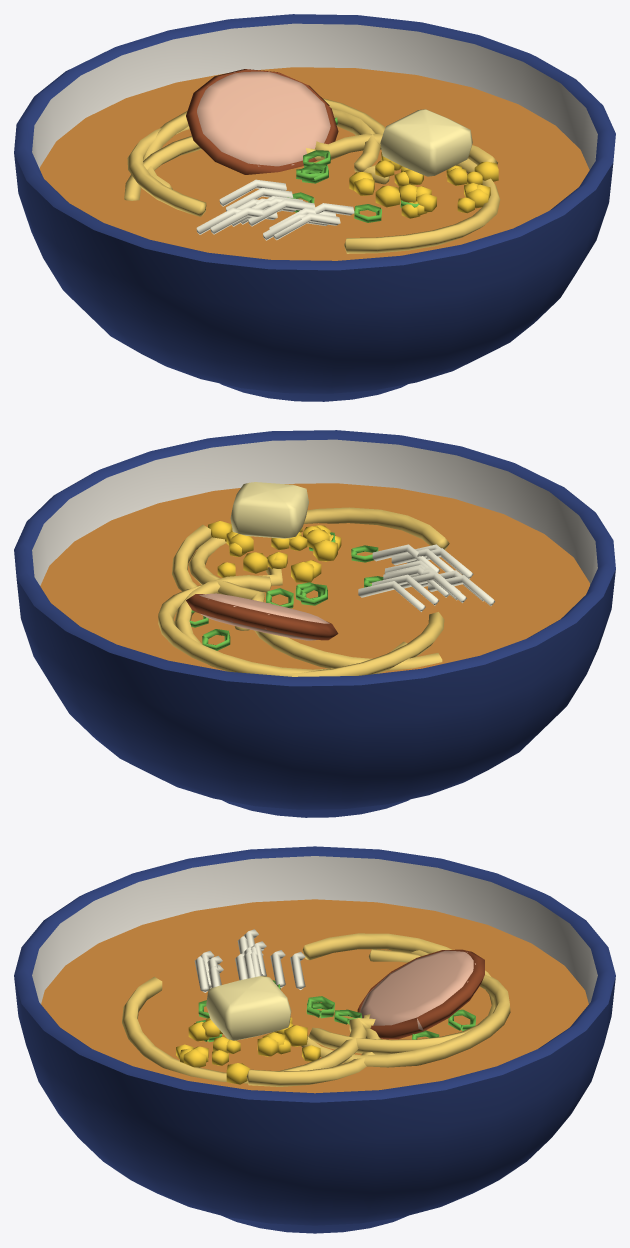
The picture shows the model from 3 angles, top to bottom: view 1: azimuth 30°, elevation 25°; view 2: azimuth 150°, elevation 25°; view 3: azimuth 270°, elevation 25°; orthographic projection.
Parts seen in each view (by area): view 1: bowl_outer, surface, bowl_inner, bowl_rim, noodles, chashu, butter, sprouts, corn, chashu_rim, scallion; view 2: bowl_outer, surface, bowl_inner, bowl_rim, noodles, sprouts, corn, butter, chashu_rim, scallion, chashu; view 3: bowl_outer, surface, bowl_inner, bowl_rim, noodles, chashu, butter, corn, sprouts, chashu_rim, scallion.
Boxes of the visible parts, x1=… form: bowl_outer: x1=14, y1=153, x2=613, y2=401; surface: x1=40, y1=67, x2=589, y2=260; bowl_inner: x1=32, y1=23, x2=597, y2=169; bowl_rim: x1=14, y1=14, x2=615, y2=270; noodles: x1=124, y1=98, x2=500, y2=253; chashu: x1=197, y1=71, x2=330, y2=166; butter: x1=380, y1=109, x2=472, y2=176; sprouts: x1=196, y1=179, x2=354, y2=240; corn: x1=349, y1=152, x2=498, y2=218; chashu_rim: x1=186, y1=69, x2=338, y2=174; scallion: x1=287, y1=117, x2=419, y2=222; bowl_outer: x1=16, y1=569, x2=615, y2=817; surface: x1=40, y1=483, x2=589, y2=673; bowl_inner: x1=32, y1=439, x2=597, y2=585; bowl_rim: x1=14, y1=430, x2=615, y2=686; noodles: x1=158, y1=507, x2=449, y2=676; sprouts: x1=358, y1=544, x2=495, y2=611; corn: x1=208, y1=521, x2=341, y2=582; butter: x1=230, y1=482, x2=308, y2=538; chashu_rim: x1=186, y1=594, x2=338, y2=640; scallion: x1=189, y1=532, x2=383, y2=650; chashu: x1=199, y1=593, x2=329, y2=640; bowl_outer: x1=14, y1=976, x2=615, y2=1233; surface: x1=41, y1=899, x2=588, y2=1093; bowl_inner: x1=32, y1=856, x2=597, y2=1003; bowl_rim: x1=14, y1=846, x2=615, y2=1102; noodles: x1=122, y1=933, x2=510, y2=1086; chashu: x1=359, y1=950, x2=475, y2=1030; butter: x1=206, y1=976, x2=291, y2=1040; corn: x1=176, y1=1017, x2=320, y2=1084; sprouts: x1=194, y1=929, x2=305, y2=992; chashu_rim: x1=357, y1=949, x2=484, y2=1039; scallion: x1=196, y1=980, x2=475, y2=1042.
Bounding box in the file's own units: 0.2 × 0.0842 × 0.2.
